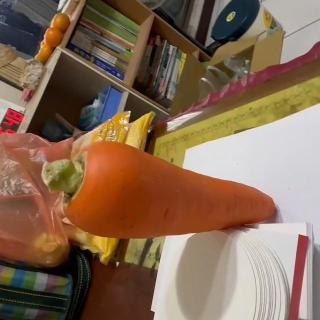carrot: (42, 142, 276, 240)
